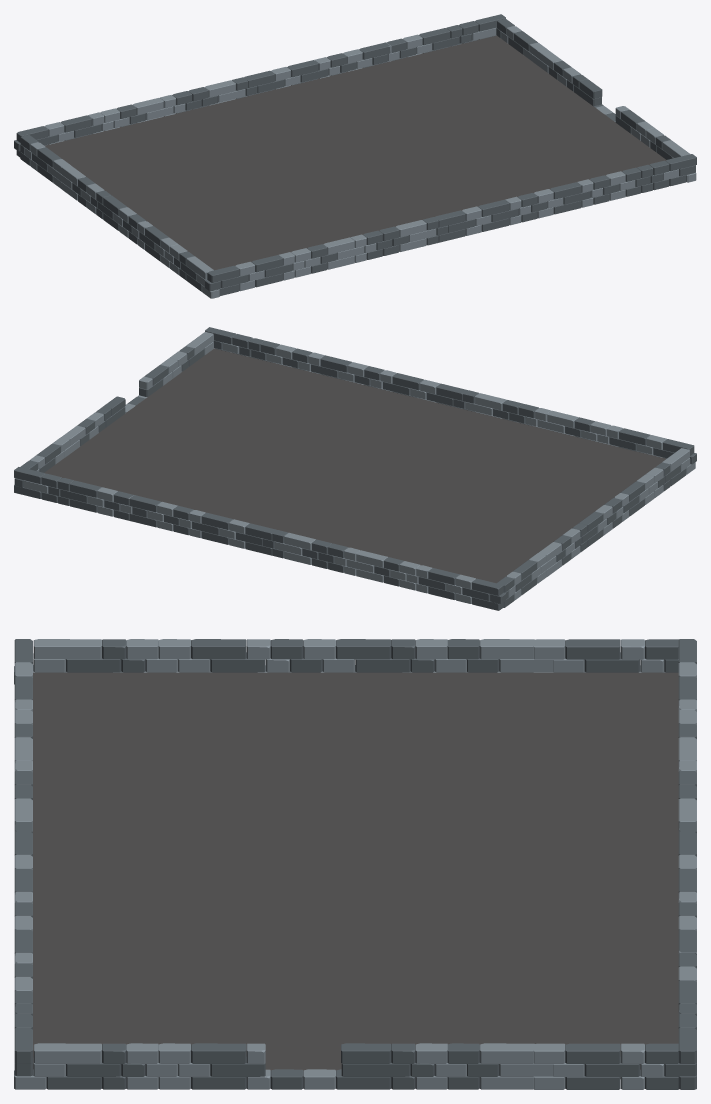
File: L5Ground.fbx
3 renders of one model, top to bottom at view 1: azimuth 30°, elevation 25°; view 2: azimuth 150°, elevation 25°; view 3: azimuth 270°, elevation 25°, orthographic. The views are drawn at different scales.
Visible parts, largest first — view 1: pasted__polySurface3391, polySurface1286; view 2: pasted__polySurface3391, polySurface1286; view 3: pasted__polySurface3391, polySurface1286.
Part boxes in pixels (x1=…): pasted__polySurface3391: x1=45, y1=35, x2=666, y2=270; polySurface1286: x1=14, y1=14, x2=696, y2=298; pasted__polySurface3391: x1=44, y1=348, x2=665, y2=583; polySurface1286: x1=14, y1=327, x2=696, y2=610; pasted__polySurface3391: x1=33, y1=672, x2=678, y2=1078; polySurface1286: x1=14, y1=639, x2=696, y2=1089.
Bounding box in the file's own units: 2200 × 98.8 × 1532.
